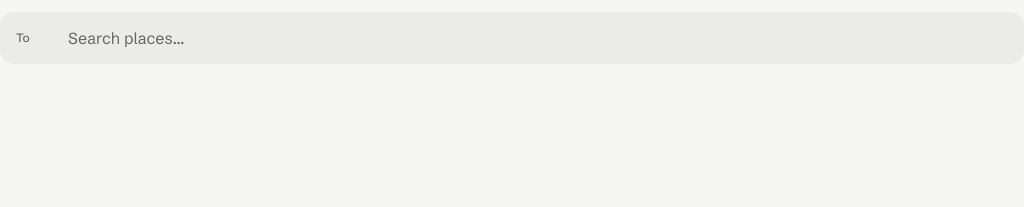
Test: PlaceField combobox › exposes combobox semantics and opens a listbox while typing
In the dropdown labelled "To": [544, 38] box [68,12,1020,64], type "par"
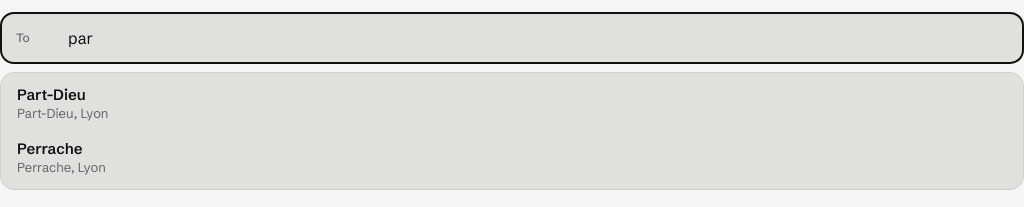
Result: the dropdown labelled "To" is expanded at [68,12,1020,64]
Result: the number of options is 2 at [17,85,108,121]; [17,139,106,175]
